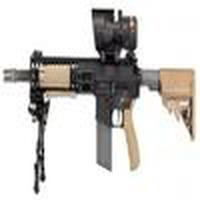gun: (3, 8, 200, 140)
